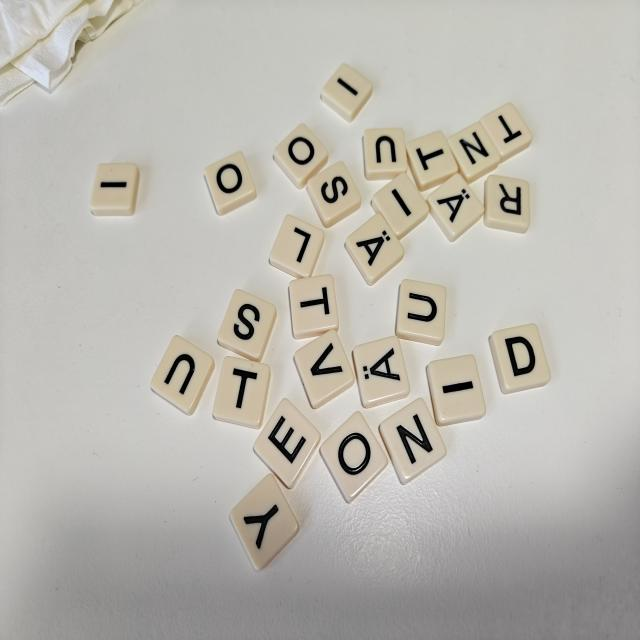a_dot: (345, 213, 404, 285), (352, 336, 410, 407), (427, 173, 484, 242)
d: (489, 324, 550, 394)
e: (254, 398, 321, 489)
i: (427, 354, 485, 426), (371, 173, 429, 239), (321, 64, 372, 122), (91, 164, 139, 215)
l: (269, 215, 324, 278)
n: (380, 398, 446, 484), (447, 122, 500, 182)
o: (320, 411, 387, 502), (274, 124, 328, 189), (205, 151, 257, 215)
r: (484, 175, 529, 233)
s: (218, 289, 276, 361), (307, 162, 361, 227)
t: (213, 356, 270, 428), (289, 275, 339, 339), (406, 131, 458, 191), (480, 103, 532, 161)
u: (151, 335, 214, 415), (396, 279, 446, 345), (363, 128, 407, 180)
v: (294, 330, 355, 409)
y: (230, 474, 299, 570)
